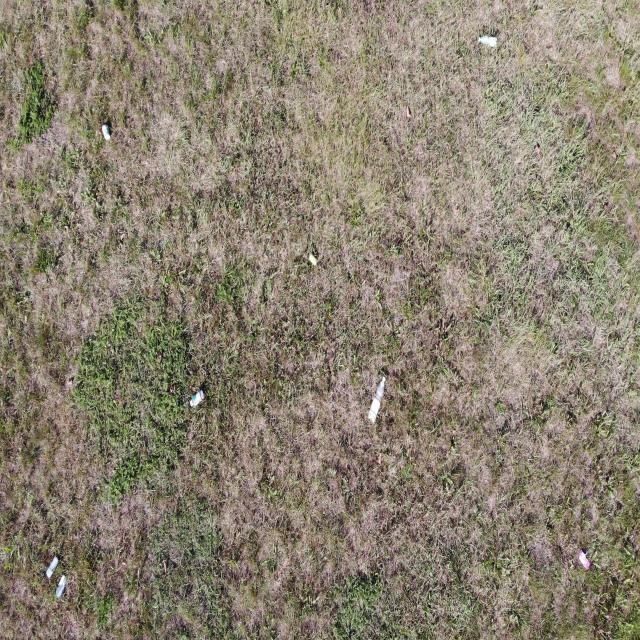rubbish: (367, 376, 385, 425), (576, 548, 592, 572), (45, 557, 59, 578), (189, 389, 204, 407), (56, 575, 67, 598), (478, 34, 497, 47), (101, 124, 111, 140), (308, 254, 317, 265)
